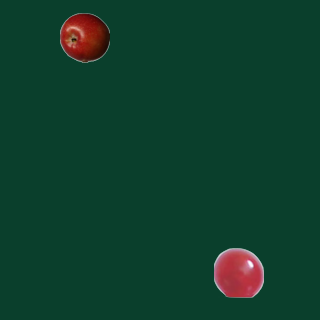Apple Braeburn: (59, 12, 109, 62)
Redcurrant: (213, 247, 263, 297)
